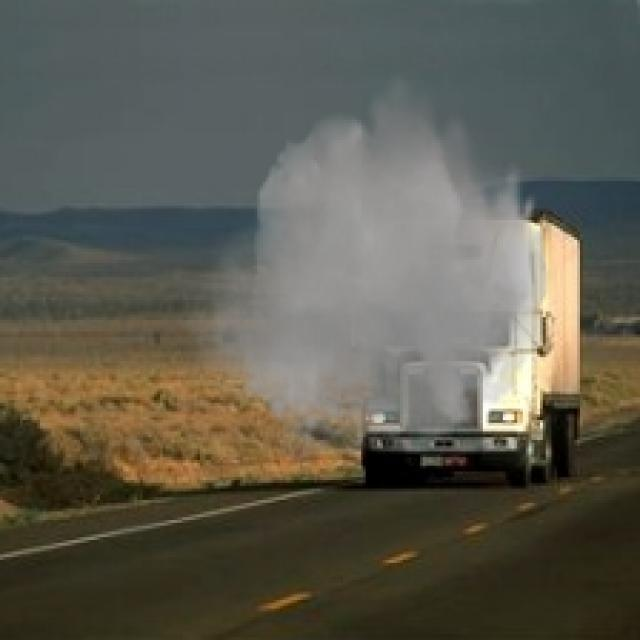smoke: (183, 66, 557, 477)
